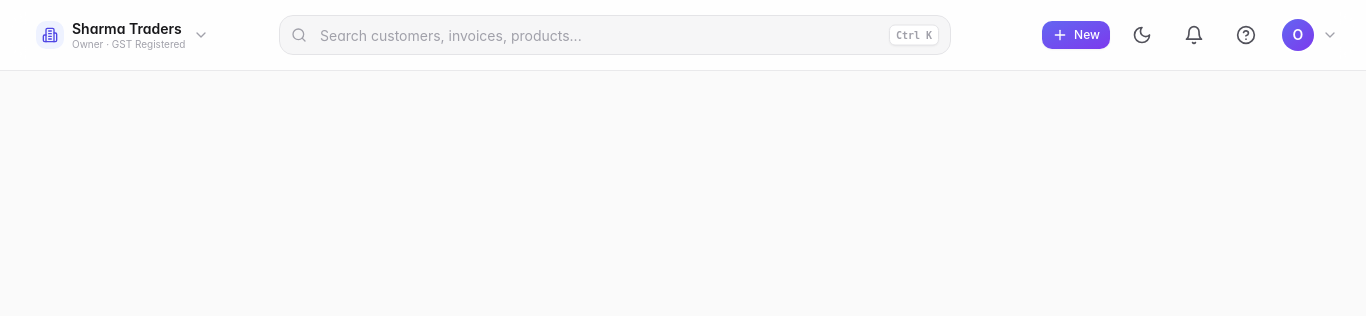
it: Header — "+ Add New Business" opens only the create form › the user-menu "Add Business" entry navigates too, with no insert path anywhere
The width and height of the screenshot is (1366, 316).
Click the button named "Account menu" at (1310, 35), box [1278, 15, 1342, 55]
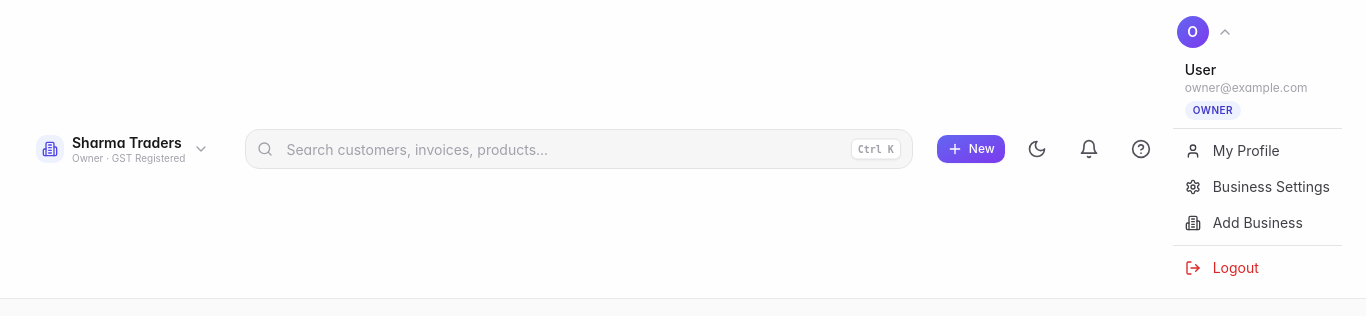
Click the button "Add Business" at (1257, 223), box [1173, 205, 1342, 241]
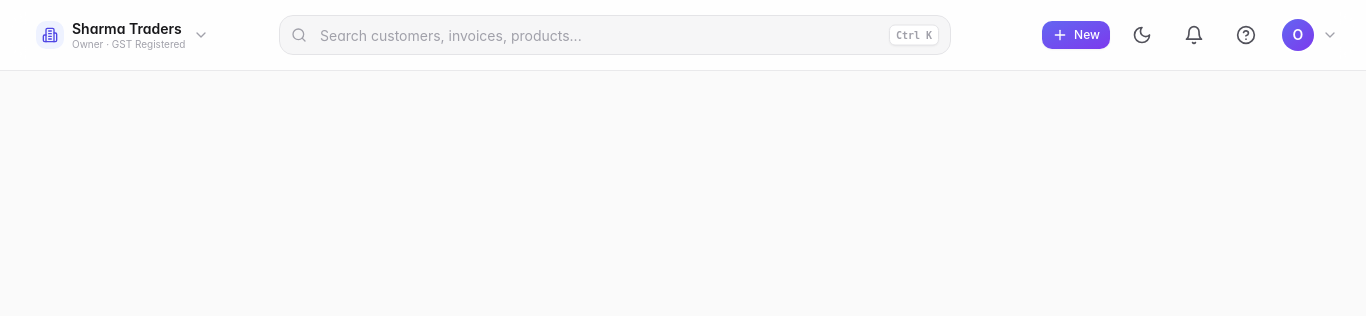
Result: the button "Add Business" is gone
